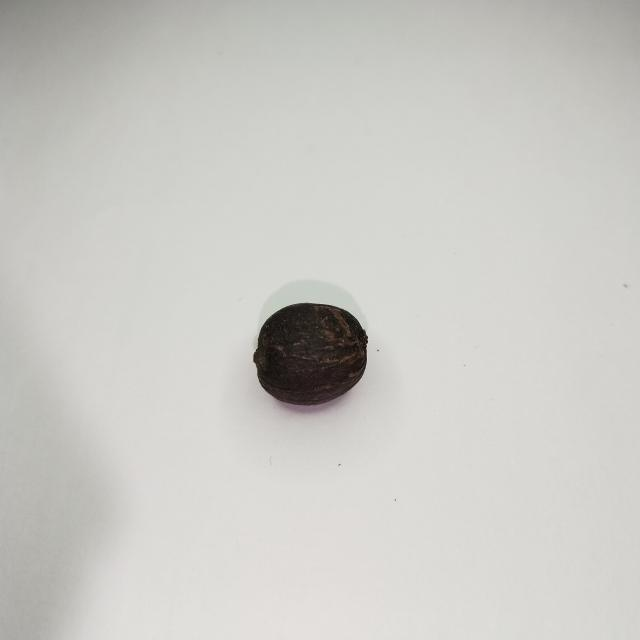Danado: (253, 301, 368, 407)
